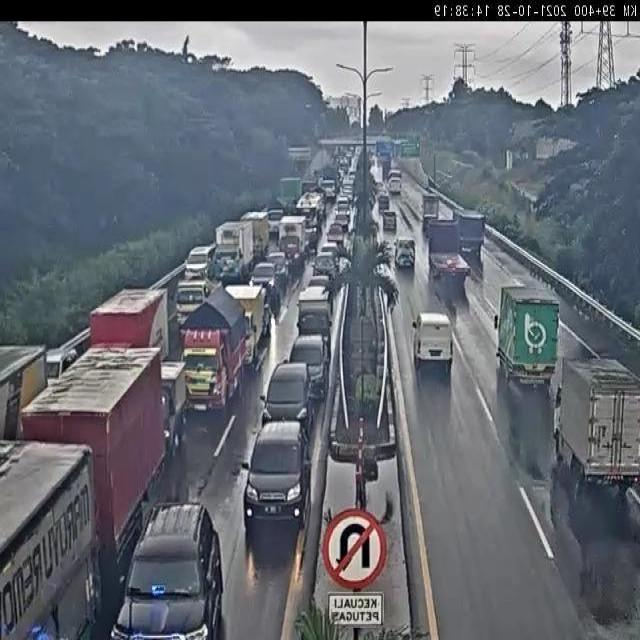Bus: (387, 170, 402, 195)
Car: (109, 502, 223, 638), (242, 419, 312, 531), (259, 360, 313, 434), (288, 333, 326, 406), (296, 285, 332, 341), (294, 193, 324, 243), (250, 262, 281, 310), (44, 346, 80, 385), (185, 240, 218, 282), (263, 252, 288, 288), (312, 251, 339, 281), (305, 274, 332, 303), (325, 221, 345, 248), (320, 242, 341, 264), (333, 212, 349, 235)
Truck: (18, 342, 165, 560), (0, 438, 100, 640), (552, 356, 640, 495), (179, 280, 247, 412), (497, 284, 560, 392), (89, 289, 170, 364), (0, 343, 47, 439), (220, 282, 265, 368), (158, 358, 189, 459), (426, 216, 471, 284), (174, 274, 226, 331), (211, 218, 254, 284), (455, 210, 486, 265), (240, 209, 270, 265), (278, 215, 307, 268), (265, 191, 290, 237), (279, 176, 304, 214), (422, 194, 440, 234), (382, 210, 397, 233), (301, 177, 319, 195), (378, 190, 390, 212), (382, 157, 391, 183)
Van: (410, 310, 456, 369), (393, 236, 417, 270)
